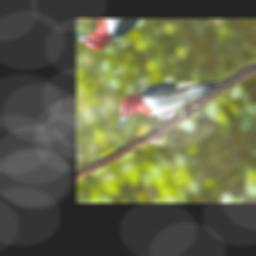Woodpecker: (107, 50, 236, 151)
